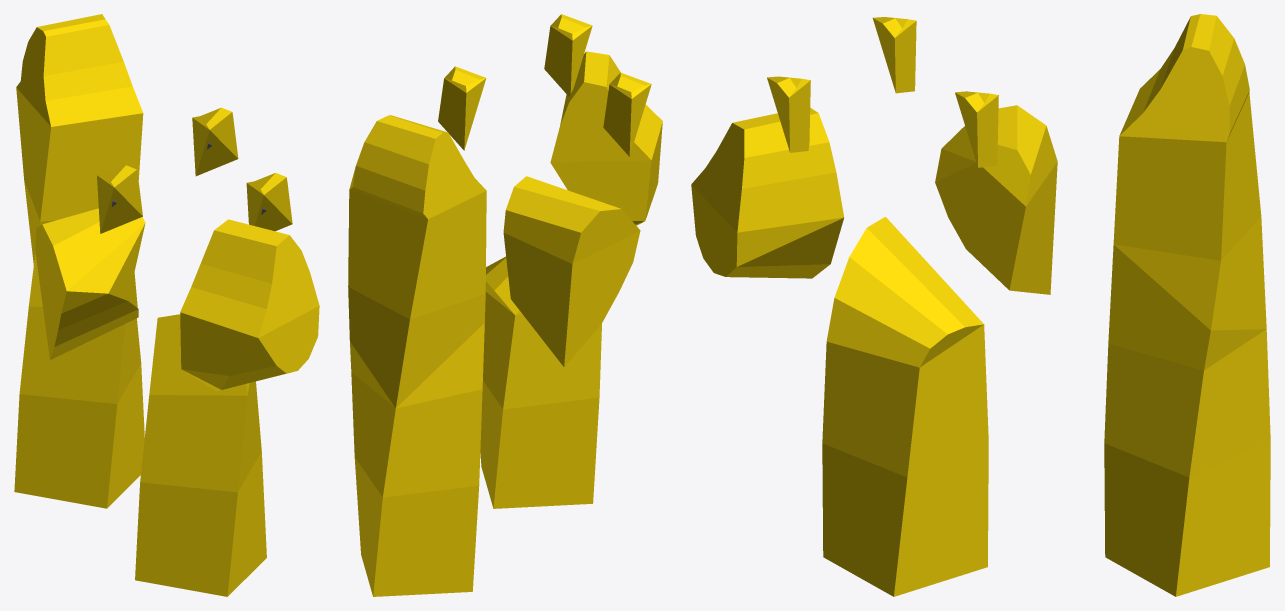
The model's file is Test Rocks.fbx.
3 renders of one model, left to right at view 1: azimuth 30°, elevation 25°; view 2: azimuth 150°, elevation 25°; view 3: azimuth 270°, elevation 25°, orthographic. The views are drawn at different scales.
Visible parts, largest first — view 1: Cube.014, Cube.013; view 2: Cube.013, Cube.014; view 3: Cube.014, Cube.013.
Boxes of the visible parts, bbox=[...] form: Cube.014: bbox=[35, 107, 319, 596]; Cube.013: bbox=[14, 14, 144, 508]; Cube.013: bbox=[348, 115, 486, 596]; Cube.014: bbox=[438, 14, 662, 508]; Cube.014: bbox=[691, 17, 1057, 596]; Cube.013: bbox=[1104, 14, 1270, 596].
Bounding box in the file's own units: 215 × 498 × 493.
